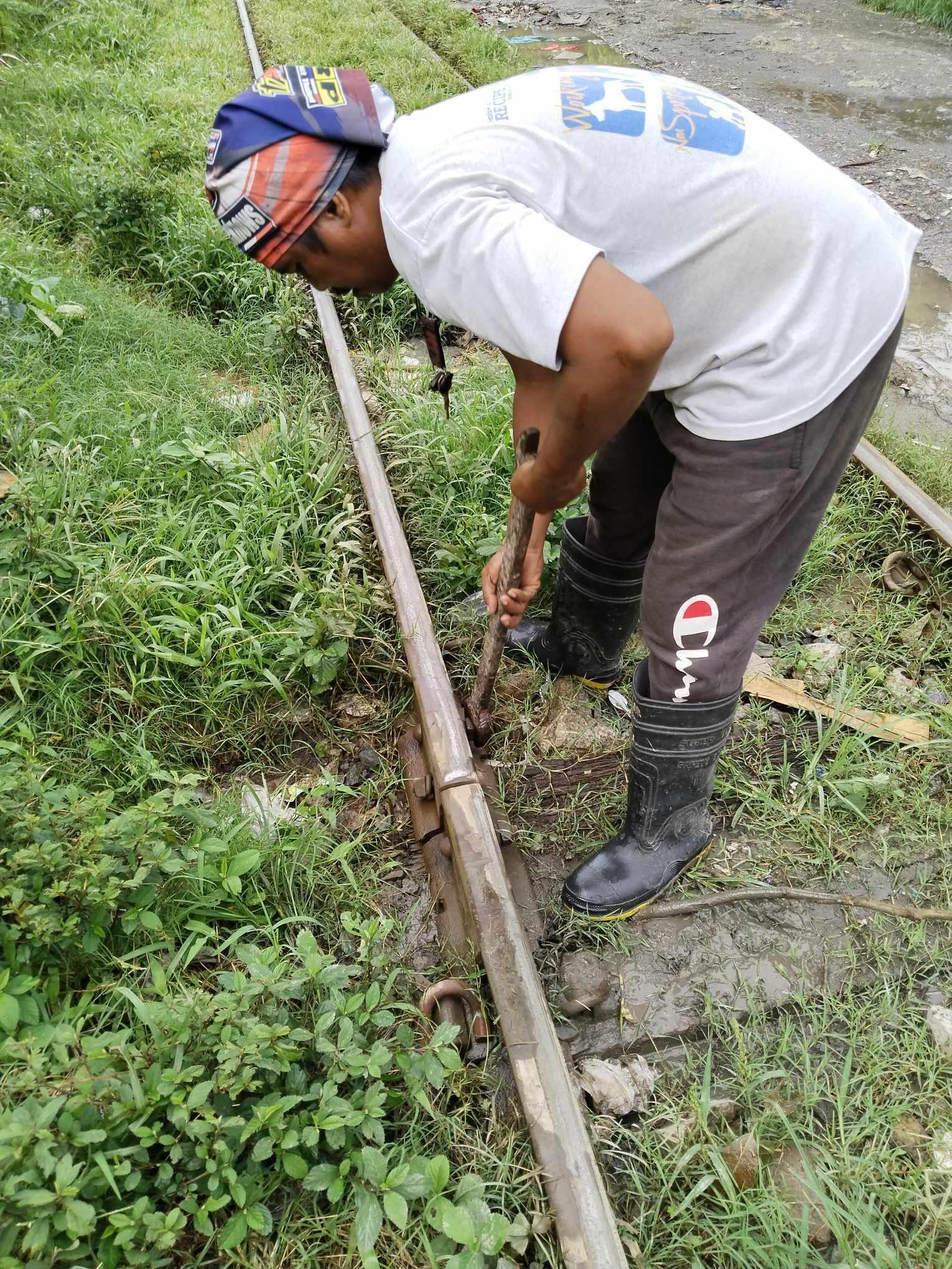railway-gap: (394, 728, 513, 850)
